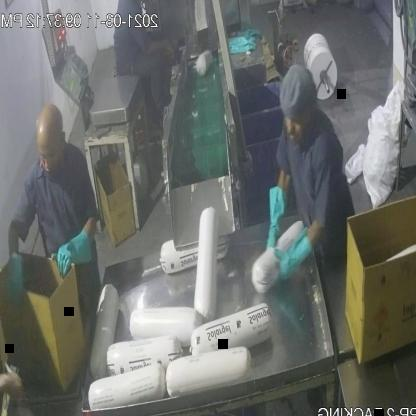glove: (52, 215, 98, 289), (263, 176, 288, 260)
no_glove: (141, 31, 177, 69)
